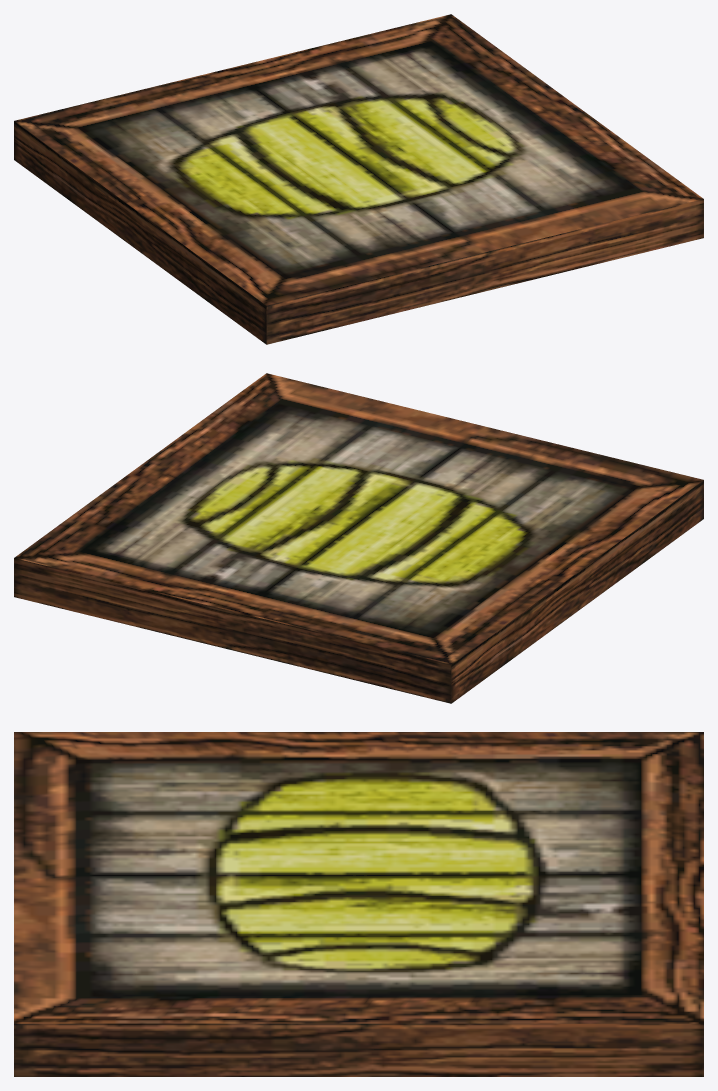
Rendered from INST_LT_PPLATEHVY.fbx.
The picture shows the model from 3 angles, top to bottom: view 1: azimuth 30°, elevation 25°; view 2: azimuth 150°, elevation 25°; view 3: azimuth 270°, elevation 25°; orthographic projection. The views are drawn at different scales.
Parts seen in each view (by area): view 1: INST_LT_PPLATEHVY; view 2: INST_LT_PPLATEHVY; view 3: INST_LT_PPLATEHVY.
Part boxes in pixels (left/top/right/bottom): INST_LT_PPLATEHVY: left=14, top=14, right=703, bottom=344; INST_LT_PPLATEHVY: left=14, top=373, right=703, bottom=703; INST_LT_PPLATEHVY: left=14, top=732, right=703, bottom=1076.
Bounding box in the file's own units: 20000 × 1705 × 20000.
Materials: 2 (2 with a texture image).
